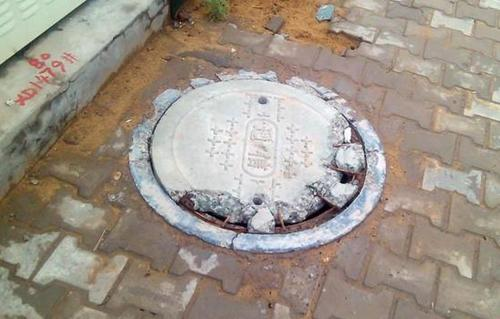broke: (125, 65, 388, 250)
